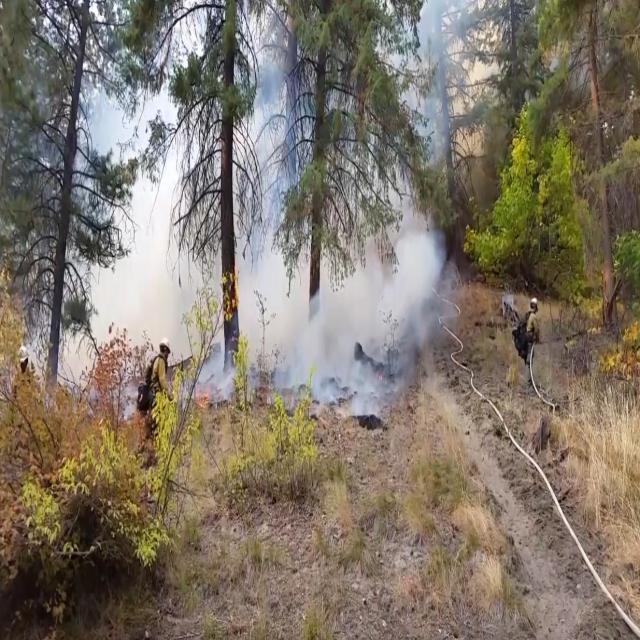Smoke: (272, 254, 411, 398), (107, 242, 196, 336), (408, 204, 448, 352)
